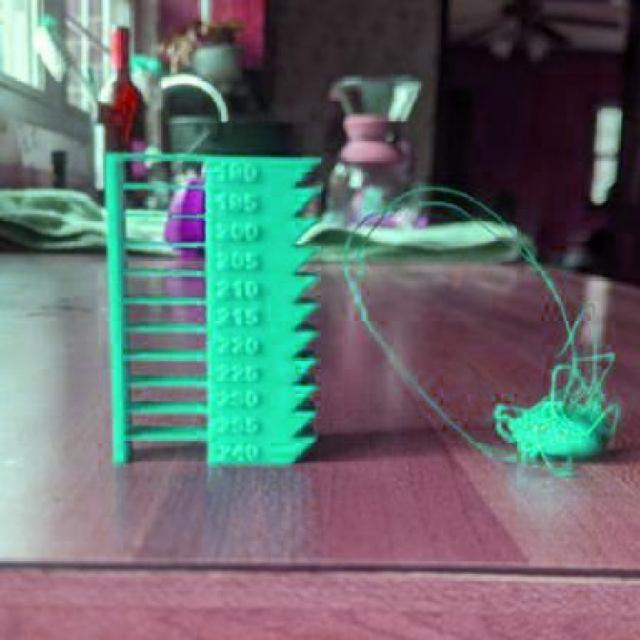Spaghetti: (334, 164, 626, 479)
